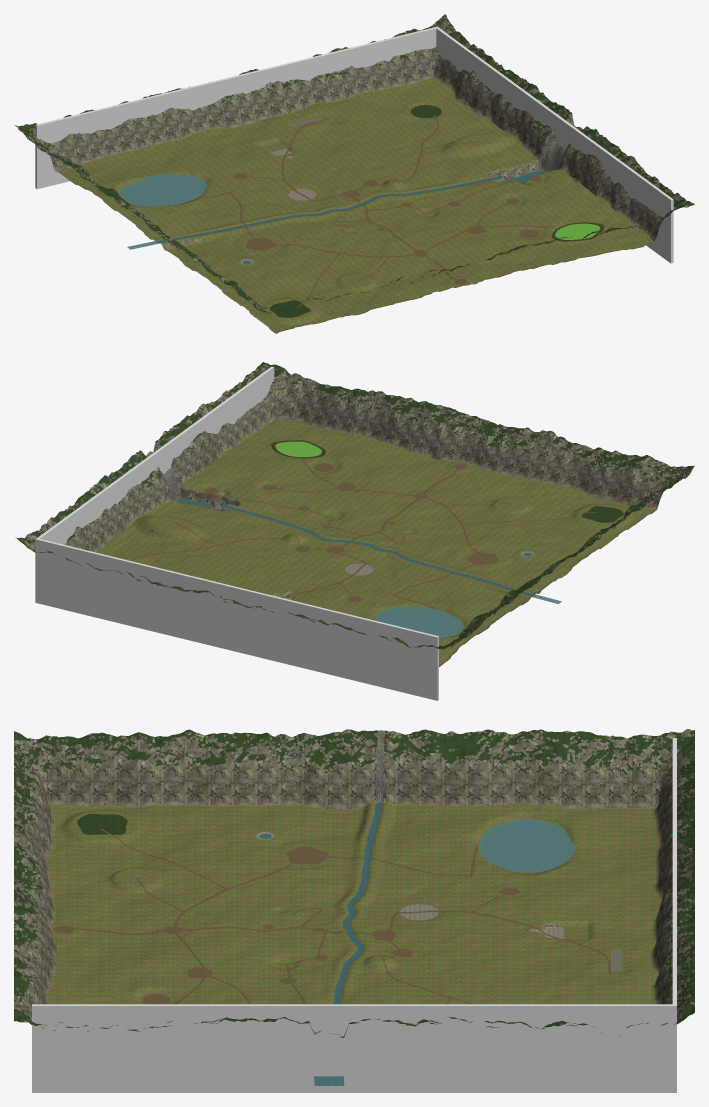
File: forest_terrain.glb
3 views of the same model, one above another, from view 1: azimuth 30°, elevation 25°; view 2: azimuth 150°, elevation 25°; view 3: azimuth 270°, elevation 25° (orthographic). The views are drawn at different scales.
Visible parts, largest first — view 1: BoundZ-colonly.001, BoundX-colonly.001, ForestGround_3_0-col, ForestGround_5_0-col, ForestGround_1_0-col, ForestGround_2_0-col, ForestGround_4_0-col, ForestGround_5_4-col, ForestGround_1_3-col, ForestGround_1_4-col, ForestGround_5_3-col, ForestGround_4_3-col (+35 smaller); view 2: BoundZ-colonly.001, BoundX-colonly.001, ForestGround_3_6-col, ForestGround_2_6-col, ForestGround_4_6-col, ForestGround_1_6-col, ForestGround_5_6-col, ForestGround_5_2-col, ForestGround_5_3-col, ForestGround_1_2-col, ForestGround_3_2-col, ForestGround_3_4-col (+36 smaller); view 3: BoundX-colonly.001, ForestGround_0_1-col, ForestGround_0_2-col, ForestGround_0_3-col, ForestGround_0_4-col, ForestGround_0_5-col, ForestGround_0_0-col, ForestGround_1_2-col, ForestGround_3_3-col, ForestGround_2_3-col, ForestGround_2_2-col, ForestGround_2_1-col (+29 smaller).
Boxes of the visible parts, box(x1,y1,x2,y2) form: BoundZ-colonly.001: box(35, 26, 438, 189); BoundX-colonly.001: box(435, 26, 673, 263); ForestGround_3_0-col: box(225, 69, 322, 145); ForestGround_5_0-col: box(359, 29, 457, 112); ForestGround_1_0-col: box(82, 96, 187, 177); ForestGround_2_0-col: box(149, 86, 254, 160); ForestGround_4_0-col: box(292, 47, 389, 127); ForestGround_5_4-col: box(507, 178, 612, 225); ForestGround_1_3-col: box(199, 217, 304, 262); ForestGround_1_4-col: box(238, 246, 343, 292); ForestGround_5_3-col: box(468, 140, 573, 197); ForestGround_4_3-col: box(401, 168, 506, 214); BoundZ-colonly.001: box(35, 538, 438, 700); BoundX-colonly.001: box(35, 366, 274, 603); ForestGround_3_6-col: box(409, 401, 492, 467); ForestGround_2_6-col: box(477, 422, 559, 484); ForestGround_4_6-col: box(342, 388, 424, 451); ForestGround_1_6-col: box(545, 436, 627, 502); ForestGround_5_6-col: box(275, 373, 357, 434); ForestGround_5_2-col: box(119, 492, 224, 549); ForestGround_5_3-col: box(158, 472, 262, 519); ForestGround_1_2-col: box(389, 569, 493, 614); ForestGround_3_2-col: box(254, 533, 359, 582); ForestGround_3_4-col: box(332, 478, 437, 524); BoundX-colonly.001: box(32, 1004, 676, 1092); ForestGround_0_1-col: box(482, 729, 588, 833); ForestGround_0_2-col: box(375, 729, 482, 832); ForestGround_0_3-col: box(269, 729, 375, 834); ForestGround_0_4-col: box(163, 729, 269, 832); ForestGround_0_5-col: box(56, 732, 162, 833); ForestGround_0_0-col: box(588, 729, 694, 832); ForestGround_1_2-col: box(375, 829, 482, 876); ForestGround_3_3-col: box(269, 920, 375, 969); ForestGround_2_3-col: box(269, 874, 375, 922); ForestGround_2_2-col: box(375, 875, 482, 921); ForestGround_2_1-col: box(482, 875, 588, 921).
Size of what is drawn, in the model's own units: 640 by 95.66 by 640.
Materials: 12 (12 with a texture image).
